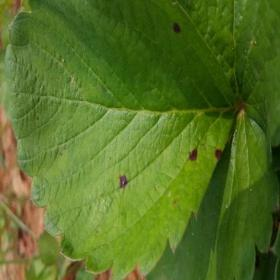Leaf Spot: (5, 0, 239, 279)
